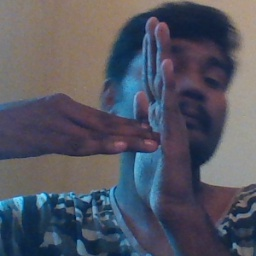Z: (59, 16, 192, 213)
